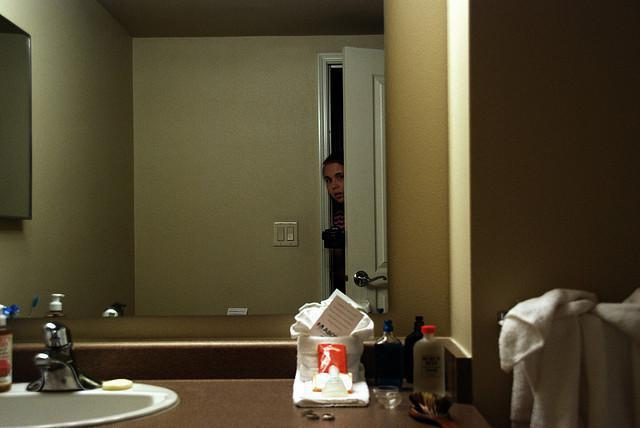Lavamanos: (0, 314, 186, 427)
